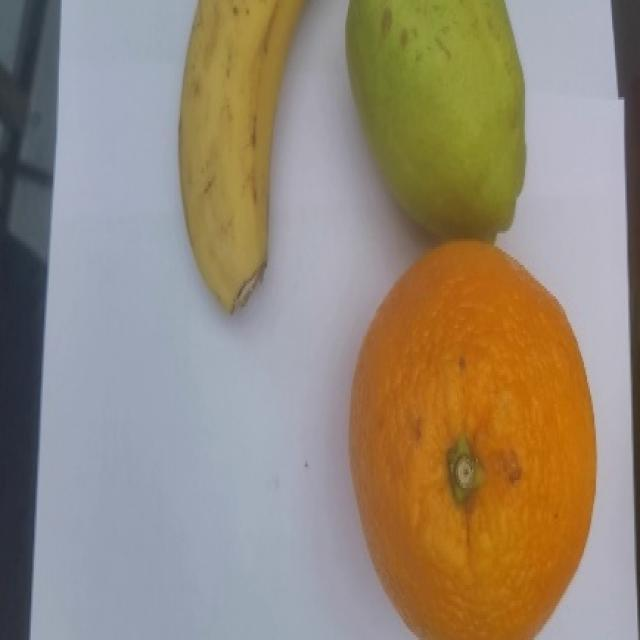Banana: (180, 0, 282, 318)
Orange: (341, 236, 599, 640)
